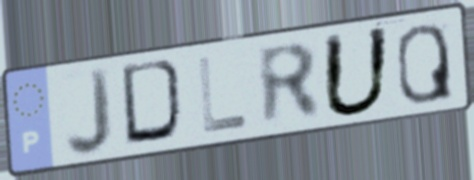D: (118, 56, 191, 149)
J: (63, 65, 115, 159)
L: (195, 53, 252, 138)
Q: (394, 21, 456, 107)
R: (253, 39, 326, 130)
U: (320, 24, 394, 121)
